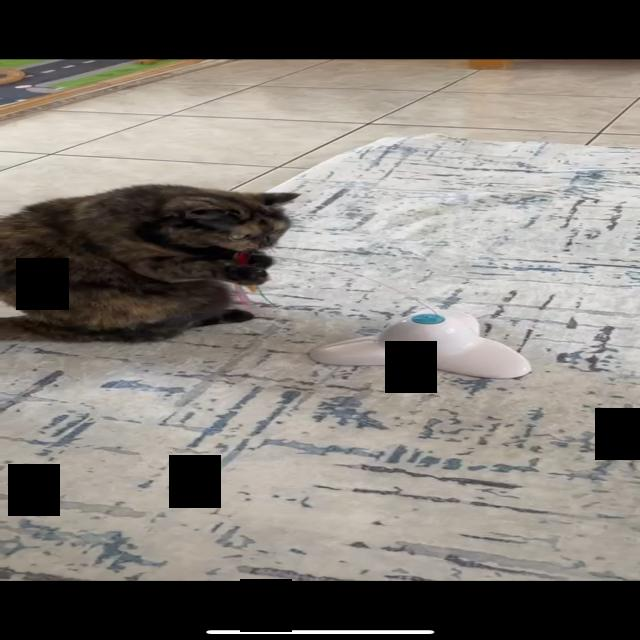authorized: (1, 182, 301, 344)
